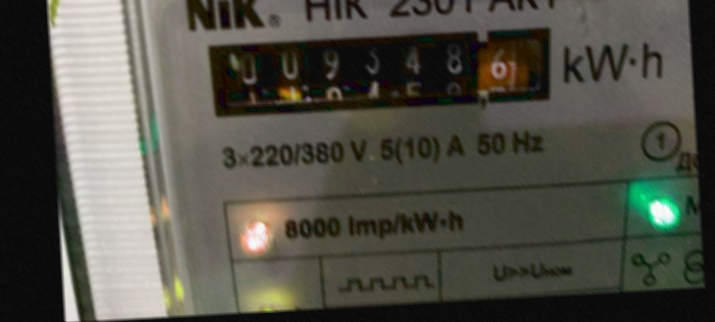0: (276, 46, 299, 83), (235, 50, 257, 86)
3: (358, 42, 382, 75)
4: (398, 40, 421, 78)
6: (485, 45, 509, 80)
8: (441, 40, 463, 75)
9: (319, 45, 339, 80)
screen: (182, 11, 572, 134)
